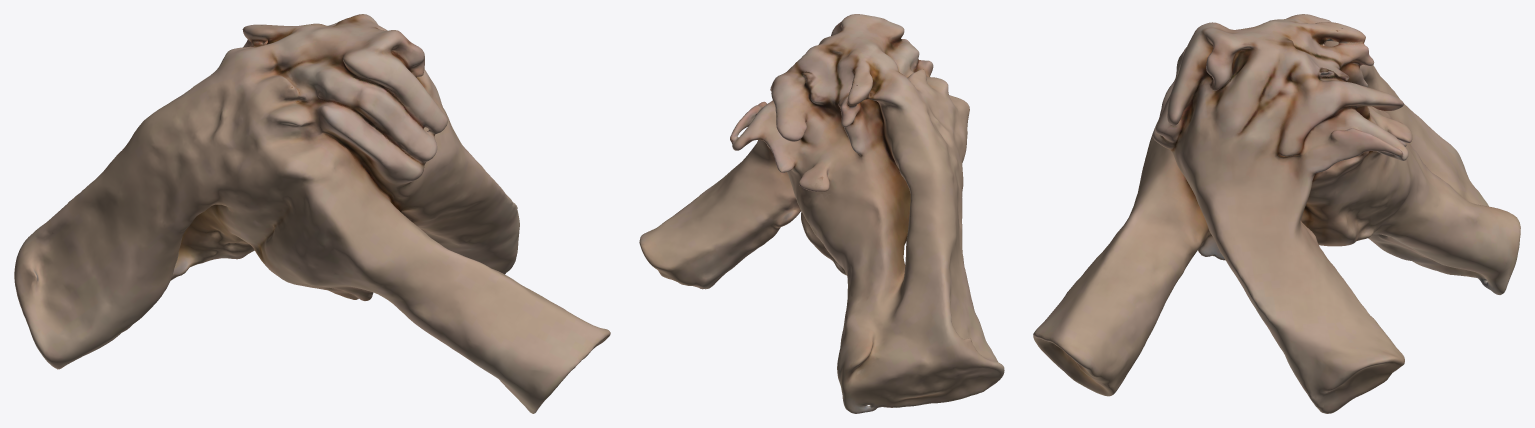
Rendered from e70ba240d4cf_hands_sculpture__3d.fbx.
3 renders of one model, left to right at view 1: azimuth 30°, elevation 25°; view 2: azimuth 150°, elevation 25°; view 3: azimuth 270°, elevation 25°, orthographic. The views are drawn at different scales.
Visible parts, largest first — view 1: high_poly; view 2: high_poly; view 3: high_poly.
Part boxes in pixels (<box>): high_poly: <box>14,14,610,413</box>; high_poly: <box>639,14,1004,413</box>; high_poly: <box>1033,14,1520,413</box>.
Bounding box in the file's own units: 100 × 72.83 × 98.68.
